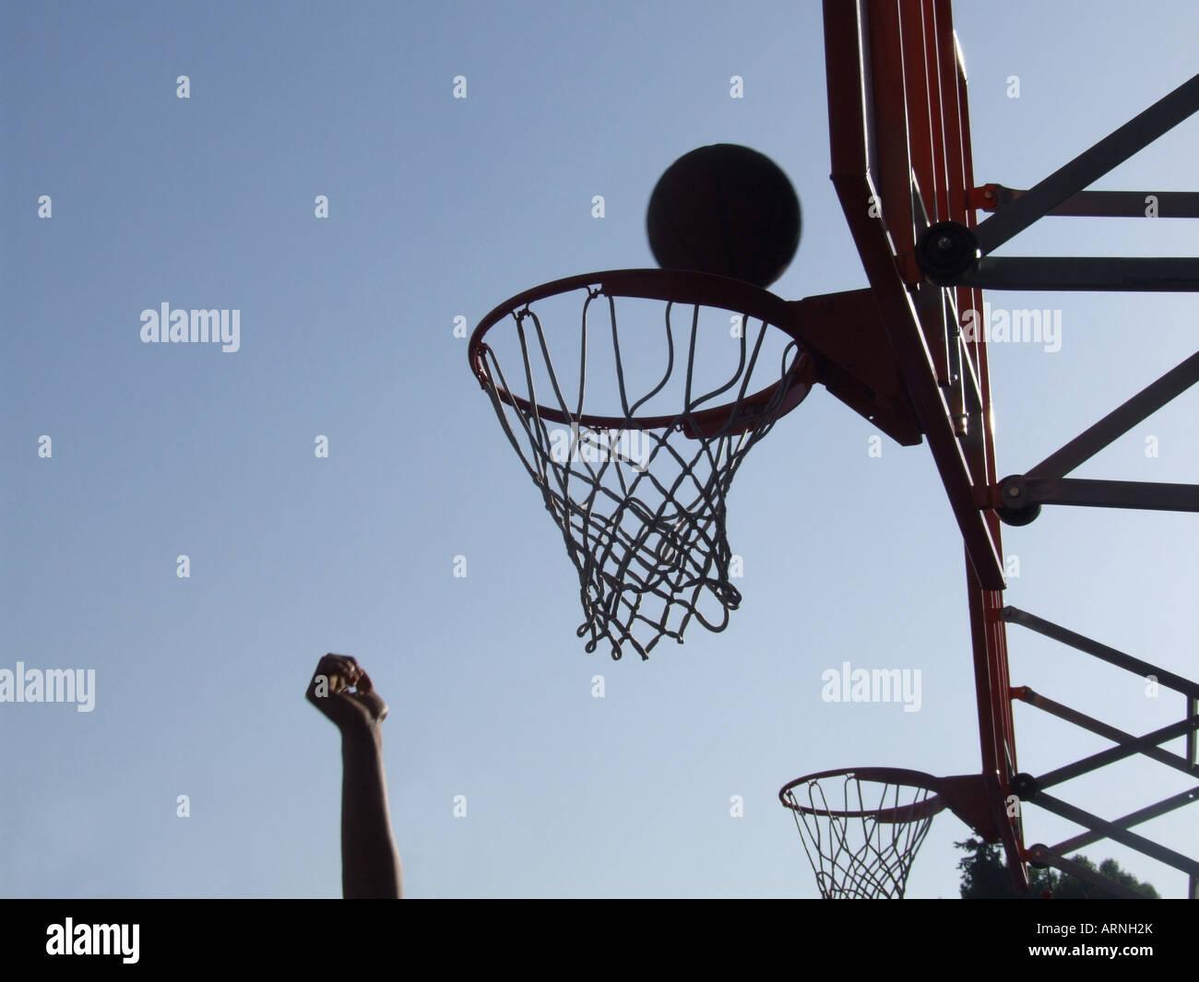basketball: (646, 138, 804, 285)
